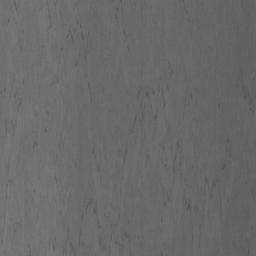Silk spot: (0, 0, 231, 256), (111, 0, 157, 51), (237, 68, 256, 112)
